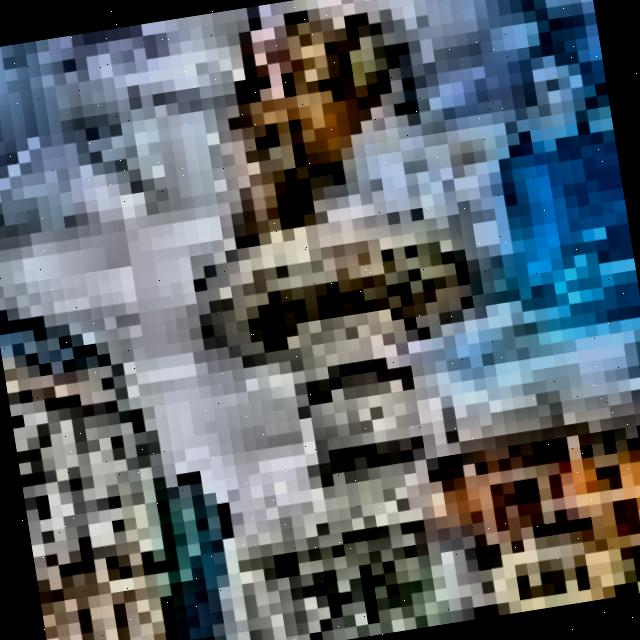alexander the great monument: (133, 0, 545, 640)
